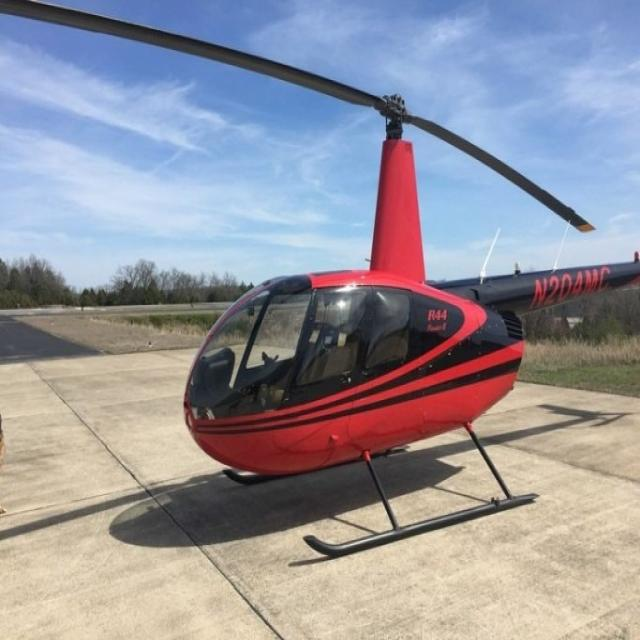CIV_HELO: (177, 86, 540, 565)
